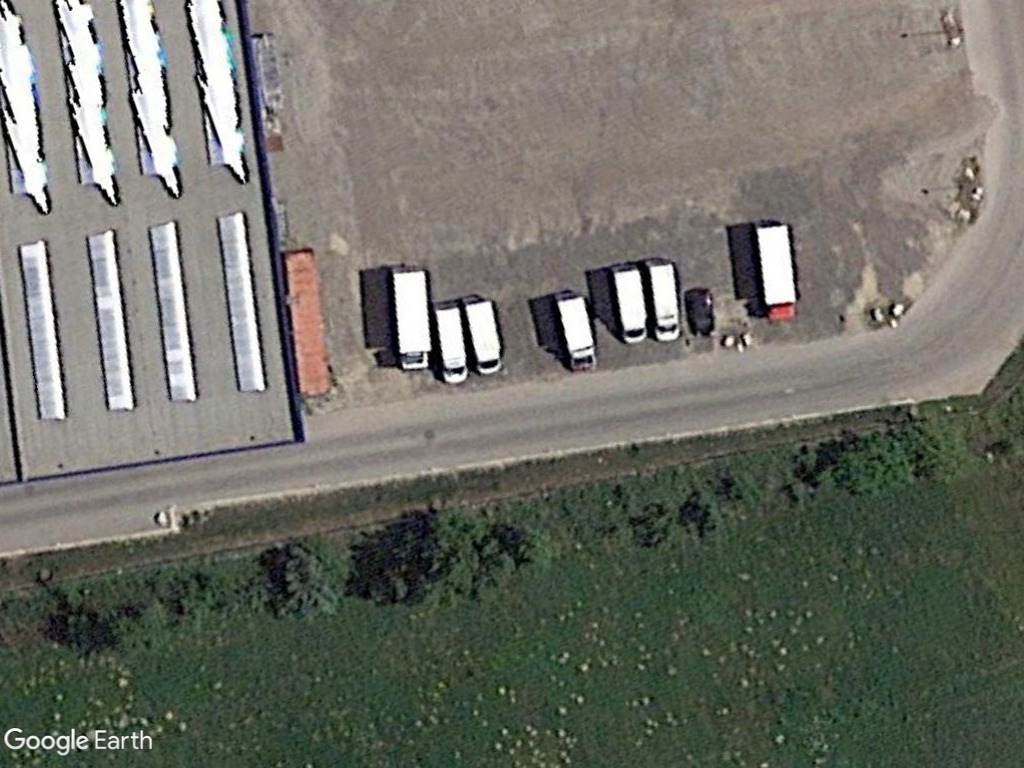truck: (751, 218, 804, 324), (387, 265, 436, 375)
van: (459, 294, 508, 380), (642, 255, 687, 346), (553, 286, 599, 374), (610, 264, 650, 346), (432, 300, 470, 386)
